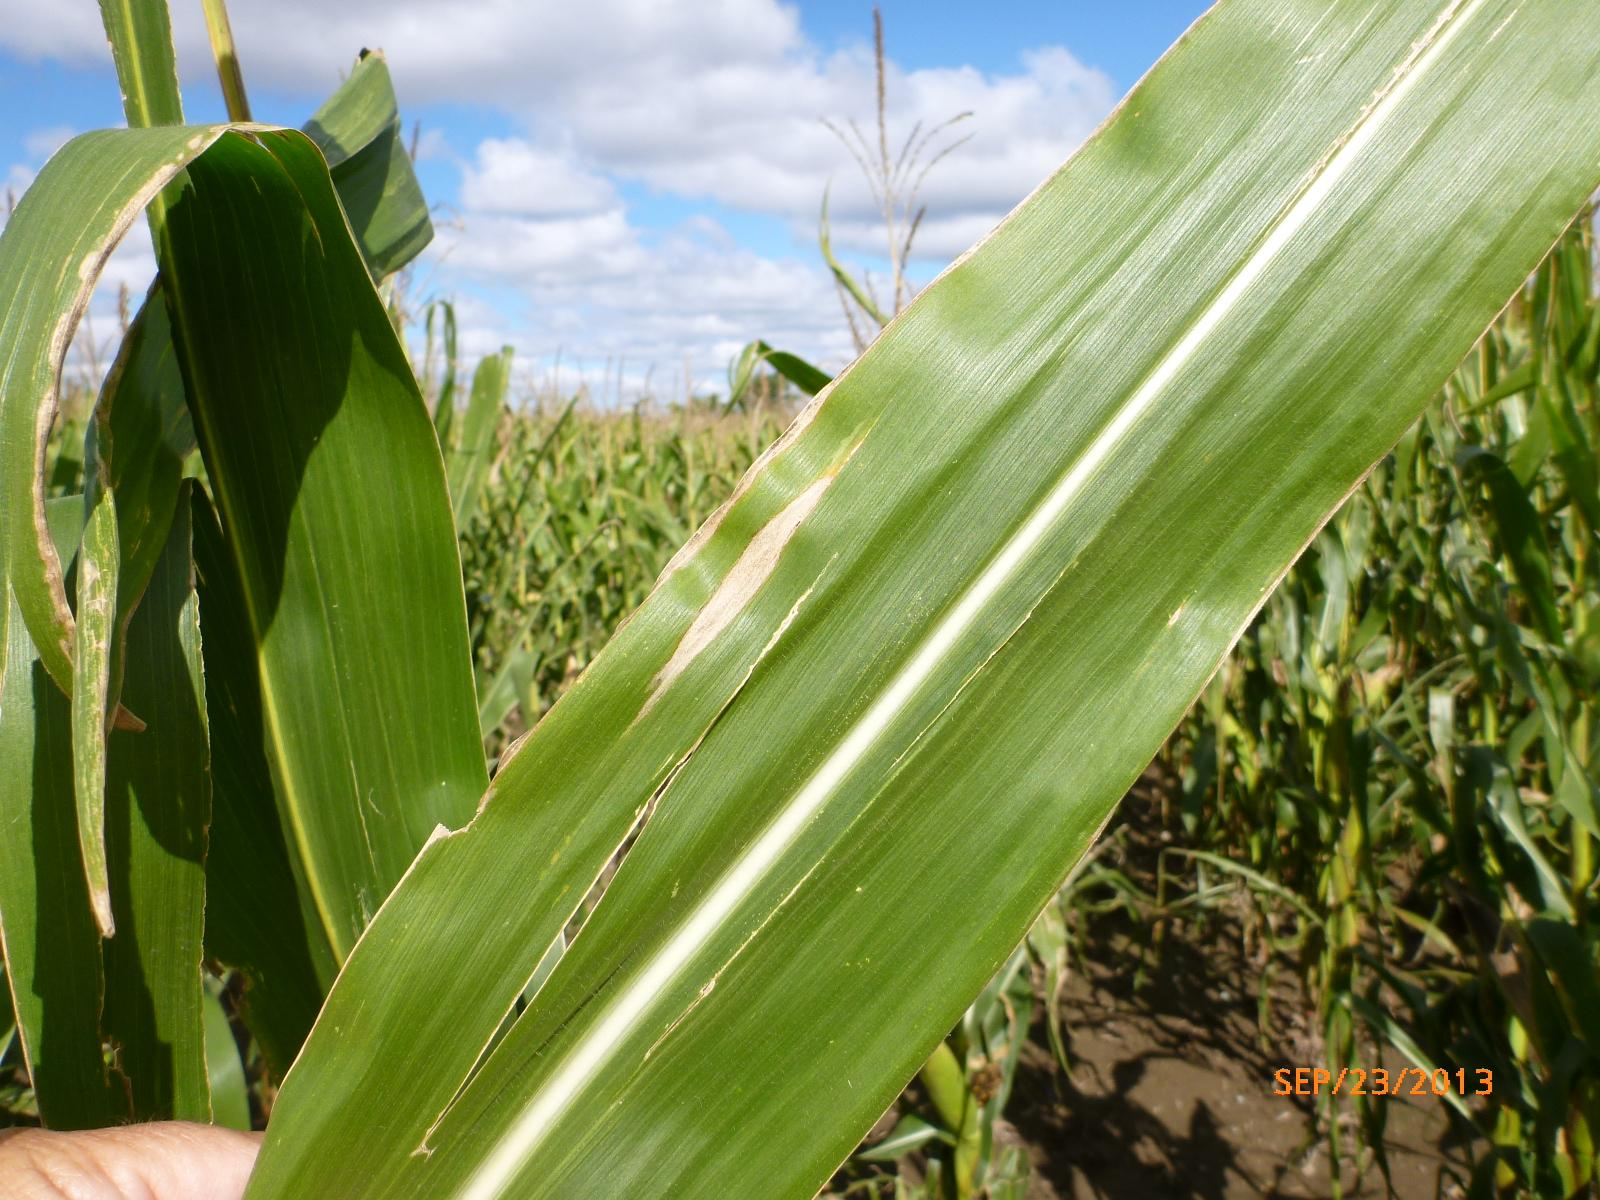Corn leaf blight: (268, 21, 1563, 1200), (3, 108, 520, 1123)
